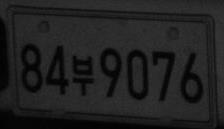0: (125, 48, 150, 100)
4: (43, 43, 71, 95)
6: (179, 52, 204, 104)
7: (151, 49, 175, 102)
8: (19, 42, 44, 93)
9: (98, 46, 123, 97)
부: (71, 54, 96, 96)
